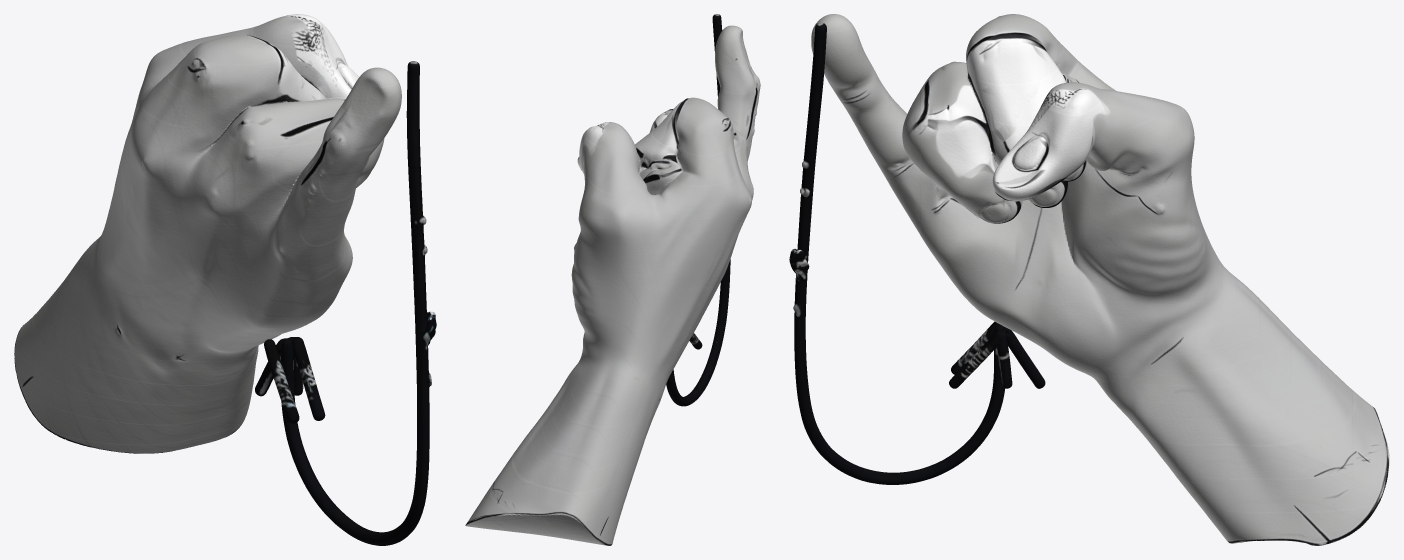
Rendered from letter_J.glb.
3 renders of one model, left to right at view 1: azimuth 30°, elevation 25°; view 2: azimuth 150°, elevation 25°; view 3: azimuth 270°, elevation 25°, orthographic. The views are drawn at different scales.
Visible parts, largest first — view 1: tripo_node_0b67c6dc-01e0-4a16-9a49-5ad6a9afab32; view 2: tripo_node_0b67c6dc-01e0-4a16-9a49-5ad6a9afab32; view 3: tripo_node_0b67c6dc-01e0-4a16-9a49-5ad6a9afab32.
Boxes of the visible parts, bbox=[...] form: tripo_node_0b67c6dc-01e0-4a16-9a49-5ad6a9afab32: bbox=[14, 14, 436, 545]; tripo_node_0b67c6dc-01e0-4a16-9a49-5ad6a9afab32: bbox=[465, 14, 760, 545]; tripo_node_0b67c6dc-01e0-4a16-9a49-5ad6a9afab32: bbox=[789, 14, 1389, 545].
Bounding box in the file's own units: 0.4292 × 0.9254 × 1.
1 material, 1 textured.
